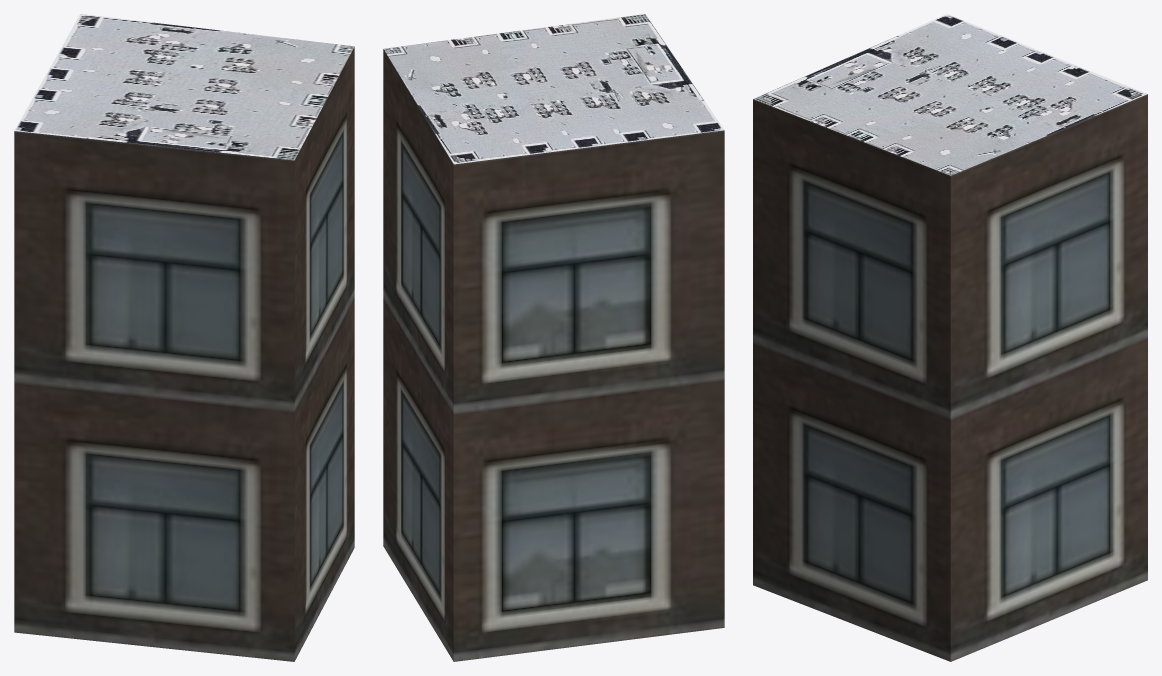
The model's file is ResTex__1403.fbx.
3 renders of one model, left to right at view 1: azimuth 30°, elevation 25°; view 2: azimuth 150°, elevation 25°; view 3: azimuth 270°, elevation 25°, orthographic. The views are drawn at different scales.
Visible parts, largest first — view 1: CityEngineMaterial_16_m, CityEngineMaterial_15_m; view 2: CityEngineMaterial_16_m, CityEngineMaterial_15_m; view 3: CityEngineMaterial_16_m, CityEngineMaterial_15_m.
Boxes of the visible parts, x1,y1,x2,y2 form: CityEngineMaterial_16_m: (14, 47, 354, 661); CityEngineMaterial_15_m: (14, 14, 354, 160); CityEngineMaterial_16_m: (383, 49, 724, 661); CityEngineMaterial_15_m: (383, 14, 723, 164); CityEngineMaterial_16_m: (753, 94, 1147, 661); CityEngineMaterial_15_m: (753, 14, 1147, 175).
Bounding box in the file's own units: 4.28 × 6 × 4.42.
Materials: 2 (2 with a texture image).
